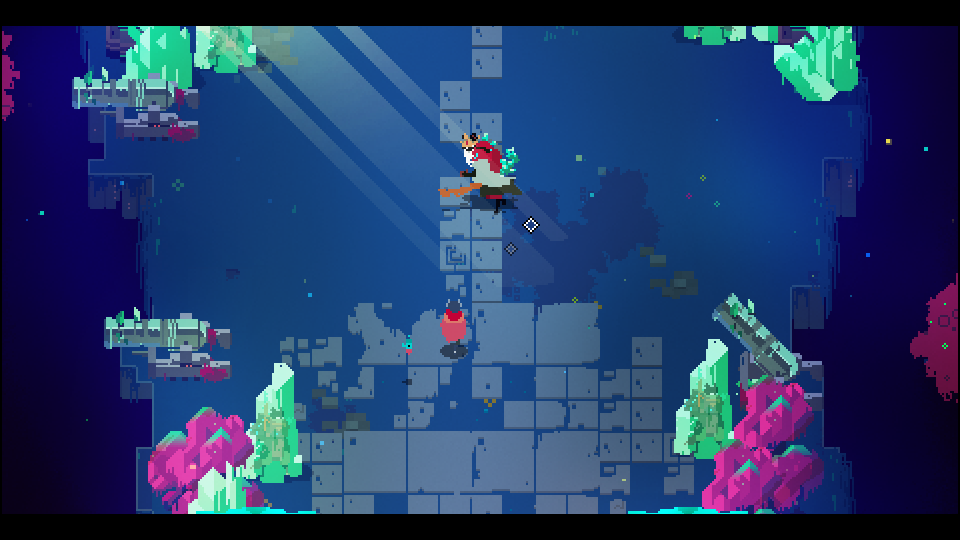hanged_man: (434, 127, 525, 213)
player: (438, 293, 469, 351)
